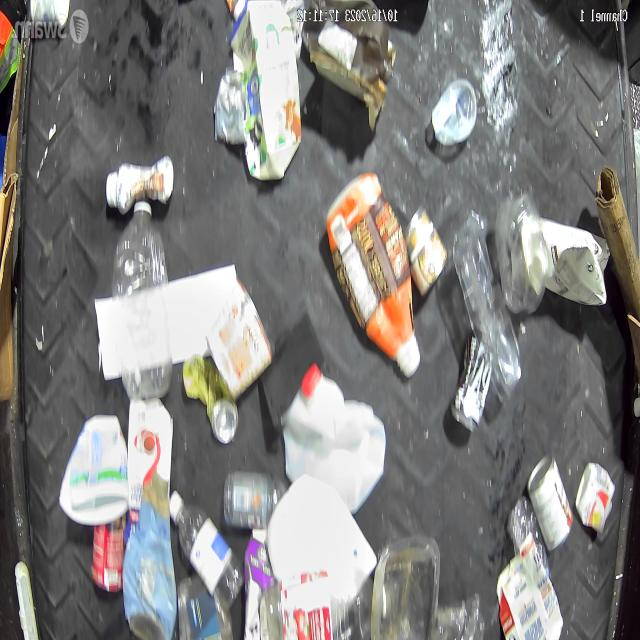can: (527, 455, 569, 547), (405, 203, 441, 287), (578, 459, 612, 529)
milk_jug: (272, 354, 378, 510)
non_white_jug: (332, 157, 418, 370)
plastic_bottle: (454, 217, 518, 390), (170, 484, 240, 609)
